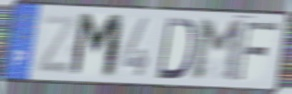4: (120, 15, 150, 80)
D: (154, 17, 197, 82)
F: (235, 20, 281, 83)
M: (68, 11, 126, 81), (191, 18, 246, 84)
Z: (35, 14, 79, 76)
